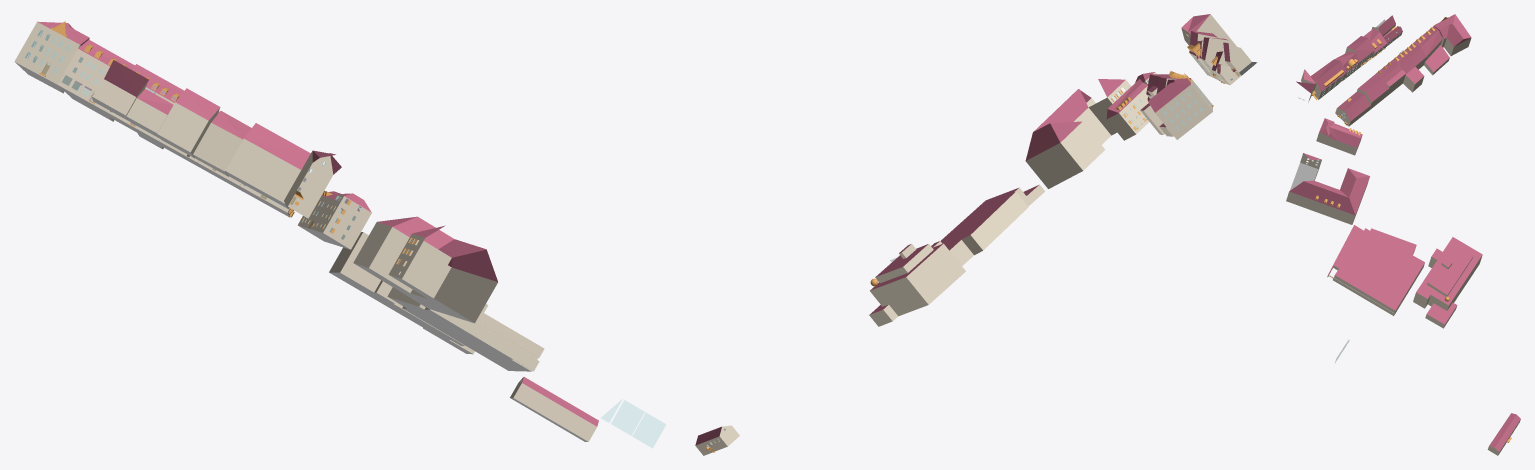
3 renders of one model, left to right at view 1: azimuth 30°, elevation 25°; view 2: azimuth 150°, elevation 25°; view 3: azimuth 270°, elevation 25°, orthographic. The views are drawn at different scales.
Parts seen in each view (by area): view 1: mesh; view 2: mesh; view 3: mesh.
Part boxes in pixels (<box>): mesh: <box>14,21,665,448</box>; mesh: <box>695,14,1257,455</box>; mesh: <box>1286,14,1520,455</box>.
Bounding box in the file's own units: 191 × 175 × 124.
